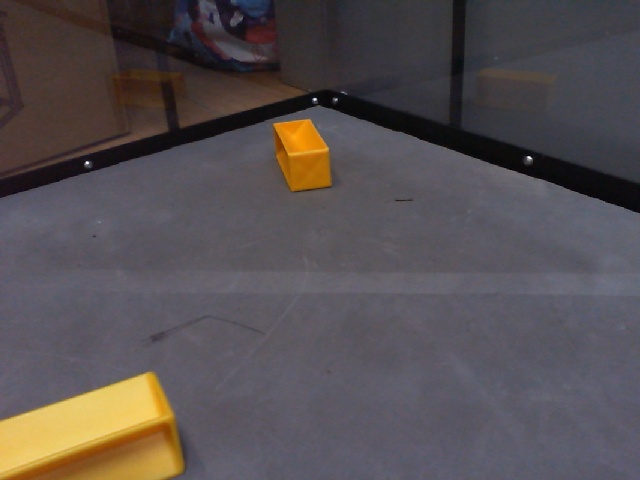YellowSample: (1, 368, 193, 480), (267, 113, 341, 194)
